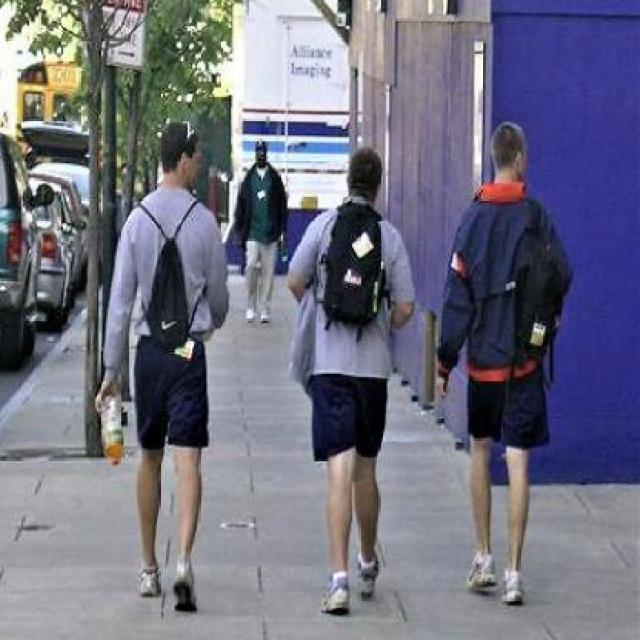Person: (437, 116, 578, 612), (97, 114, 228, 614), (286, 141, 417, 616), (231, 125, 289, 324)
